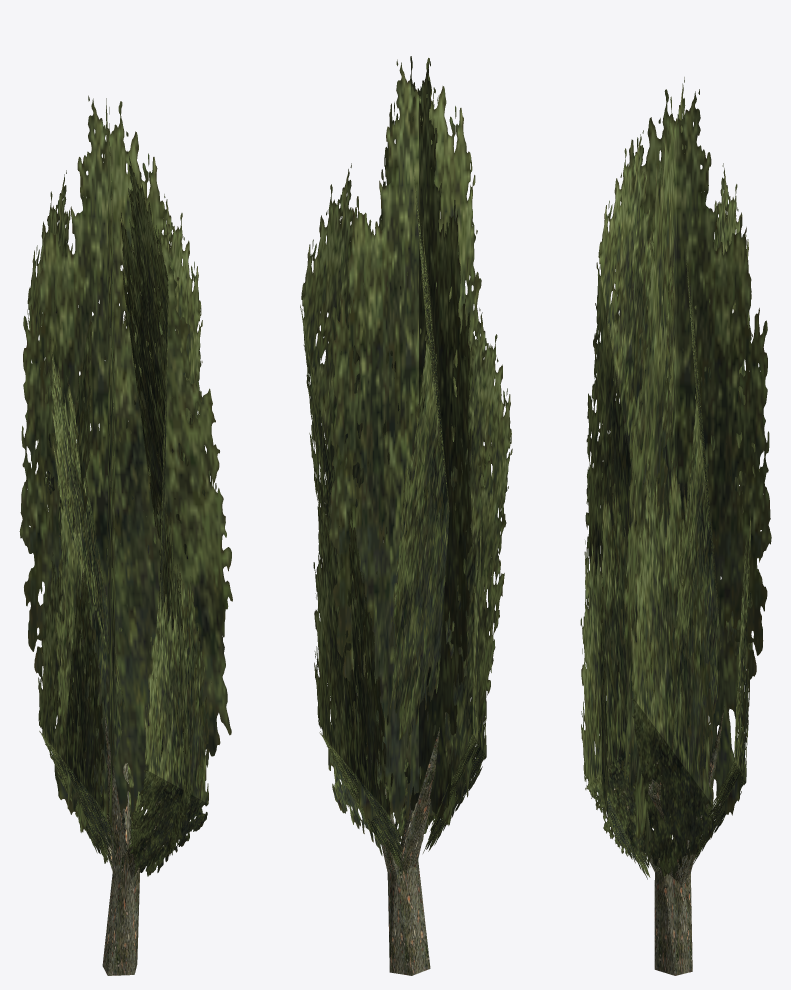
Rendered from ceasertree01_lvs.obj.
The picture shows the model from 3 angles, left to right: view 1: azimuth 30°, elevation 25°; view 2: azimuth 150°, elevation 25°; view 3: azimuth 270°, elevation 25°; orthographic projection. The views are drawn at different scales.
Visible parts, largest first — view 1: ceasertree01_lvs; view 2: ceasertree01_lvs; view 3: ceasertree01_lvs.
Part boxes in pixels (left/top/right/bottom): ceasertree01_lvs: left=19, top=95, right=232, bottom=975; ceasertree01_lvs: left=300, top=56, right=512, bottom=975; ceasertree01_lvs: left=580, top=77, right=771, bottom=975.
Bounding box in the file's own units: 5.52 × 22.4 × 4.65.
